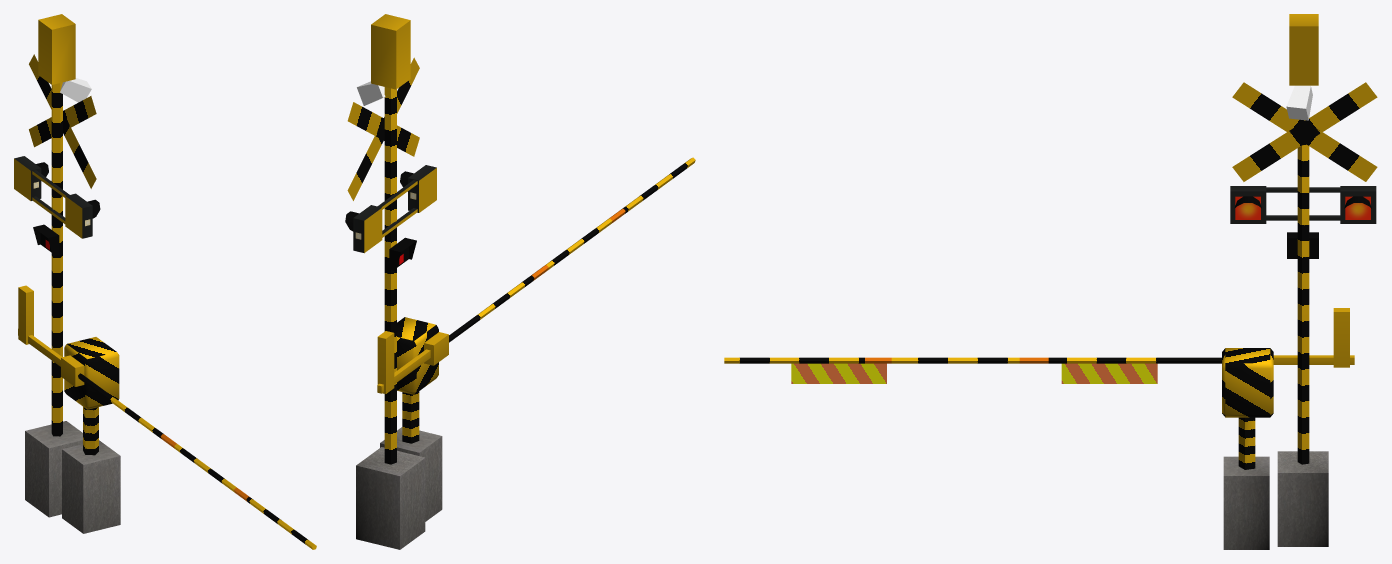
Rendered from AMB_SYADANKI_MEI.glb.
The picture shows the model from 3 angles, left to right: view 1: azimuth 30°, elevation 25°; view 2: azimuth 150°, elevation 25°; view 3: azimuth 270°, elevation 25°; orthographic projection. The views are drawn at different scales.
Visible parts, largest first — view 1: Humikiri, BAR2; view 2: Humikiri, BAR2; view 3: Humikiri, BAR2, OBI.
Part boxes in pixels (left/top/right/bottom): Humikiri: left=14, top=14, right=120, bottom=533; BAR2: left=18, top=285, right=316, bottom=549; Humikiri: left=345, top=14, right=442, bottom=549; BAR2: left=377, top=157, right=695, bottom=393; Humikiri: left=1222, top=14, right=1377, bottom=549; BAR2: left=724, top=308, right=1354, bottom=367; OBI: left=791, top=363, right=1157, bottom=383.
Bounding box in the file's own units: 1.76 × 15.81 × 18.14.
13 materials, 13 textured.
